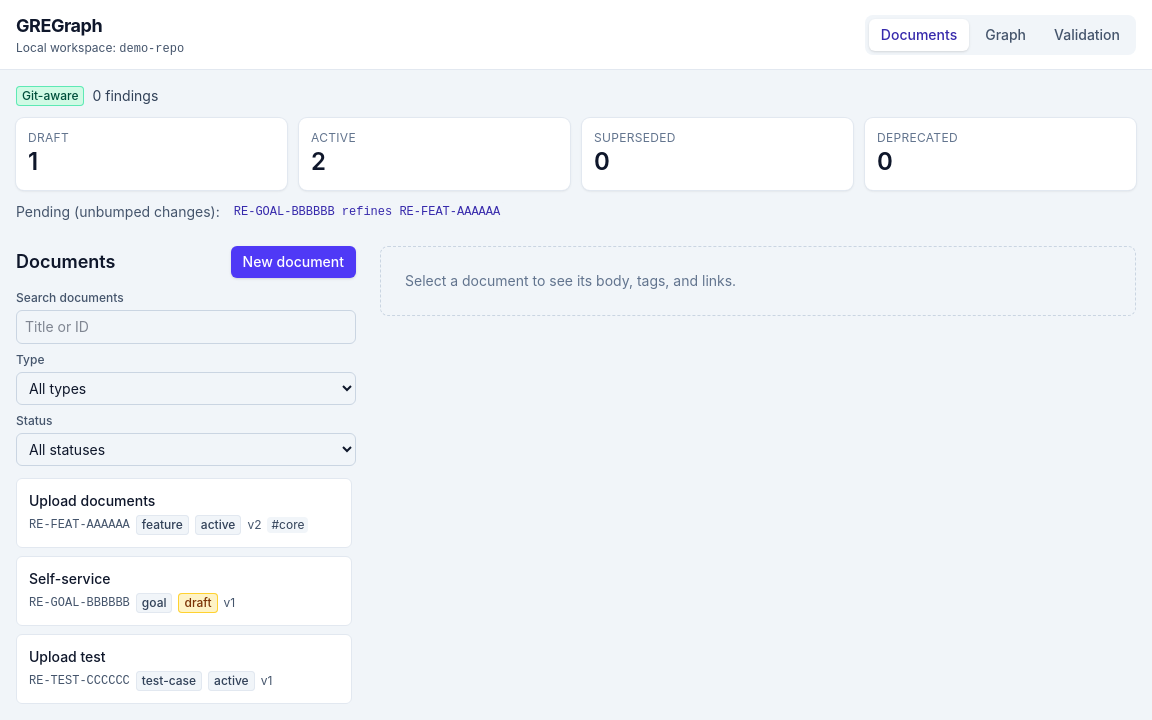
Test: App graph and validation › selects the document behind a validation finding
Click the button "Validation".
click(1087, 34)  # box [1042,18,1132,50]
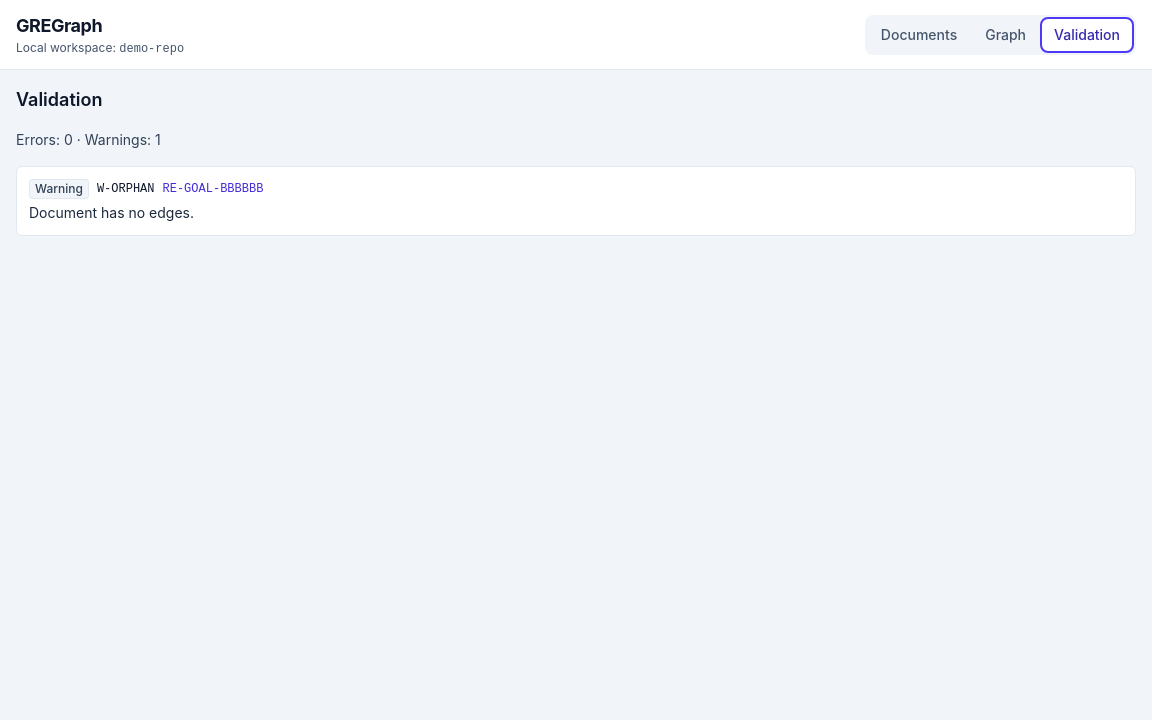
Click the button with aria-label "Open RE-GOAL-BBBBBB".
click(213, 189)  # box [162,181,263,197]
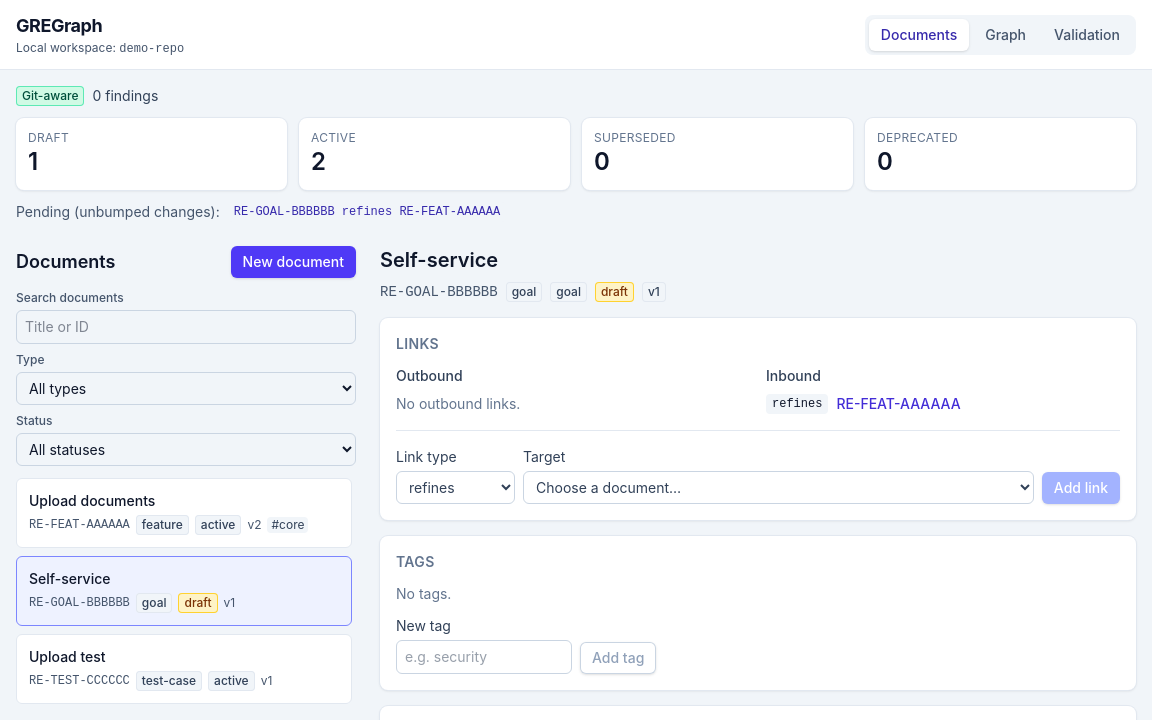
Now the heading "Self-service" is shown, box [380,248,498,272]
